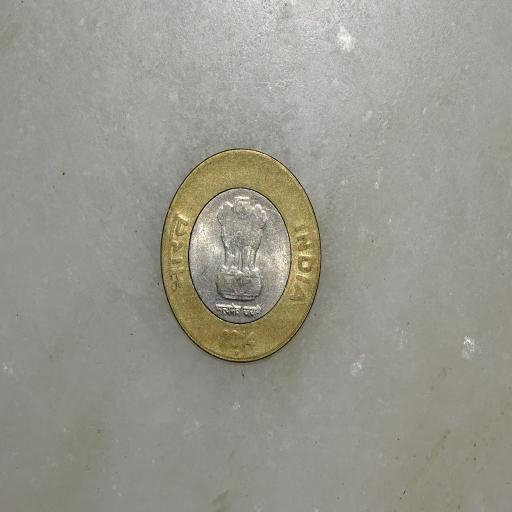rupee10: (159, 148, 324, 362)
